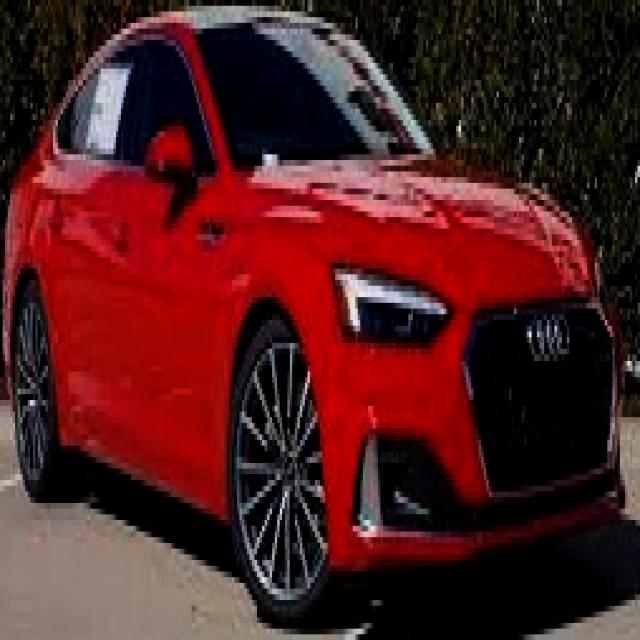red: (0, 0, 619, 600)
